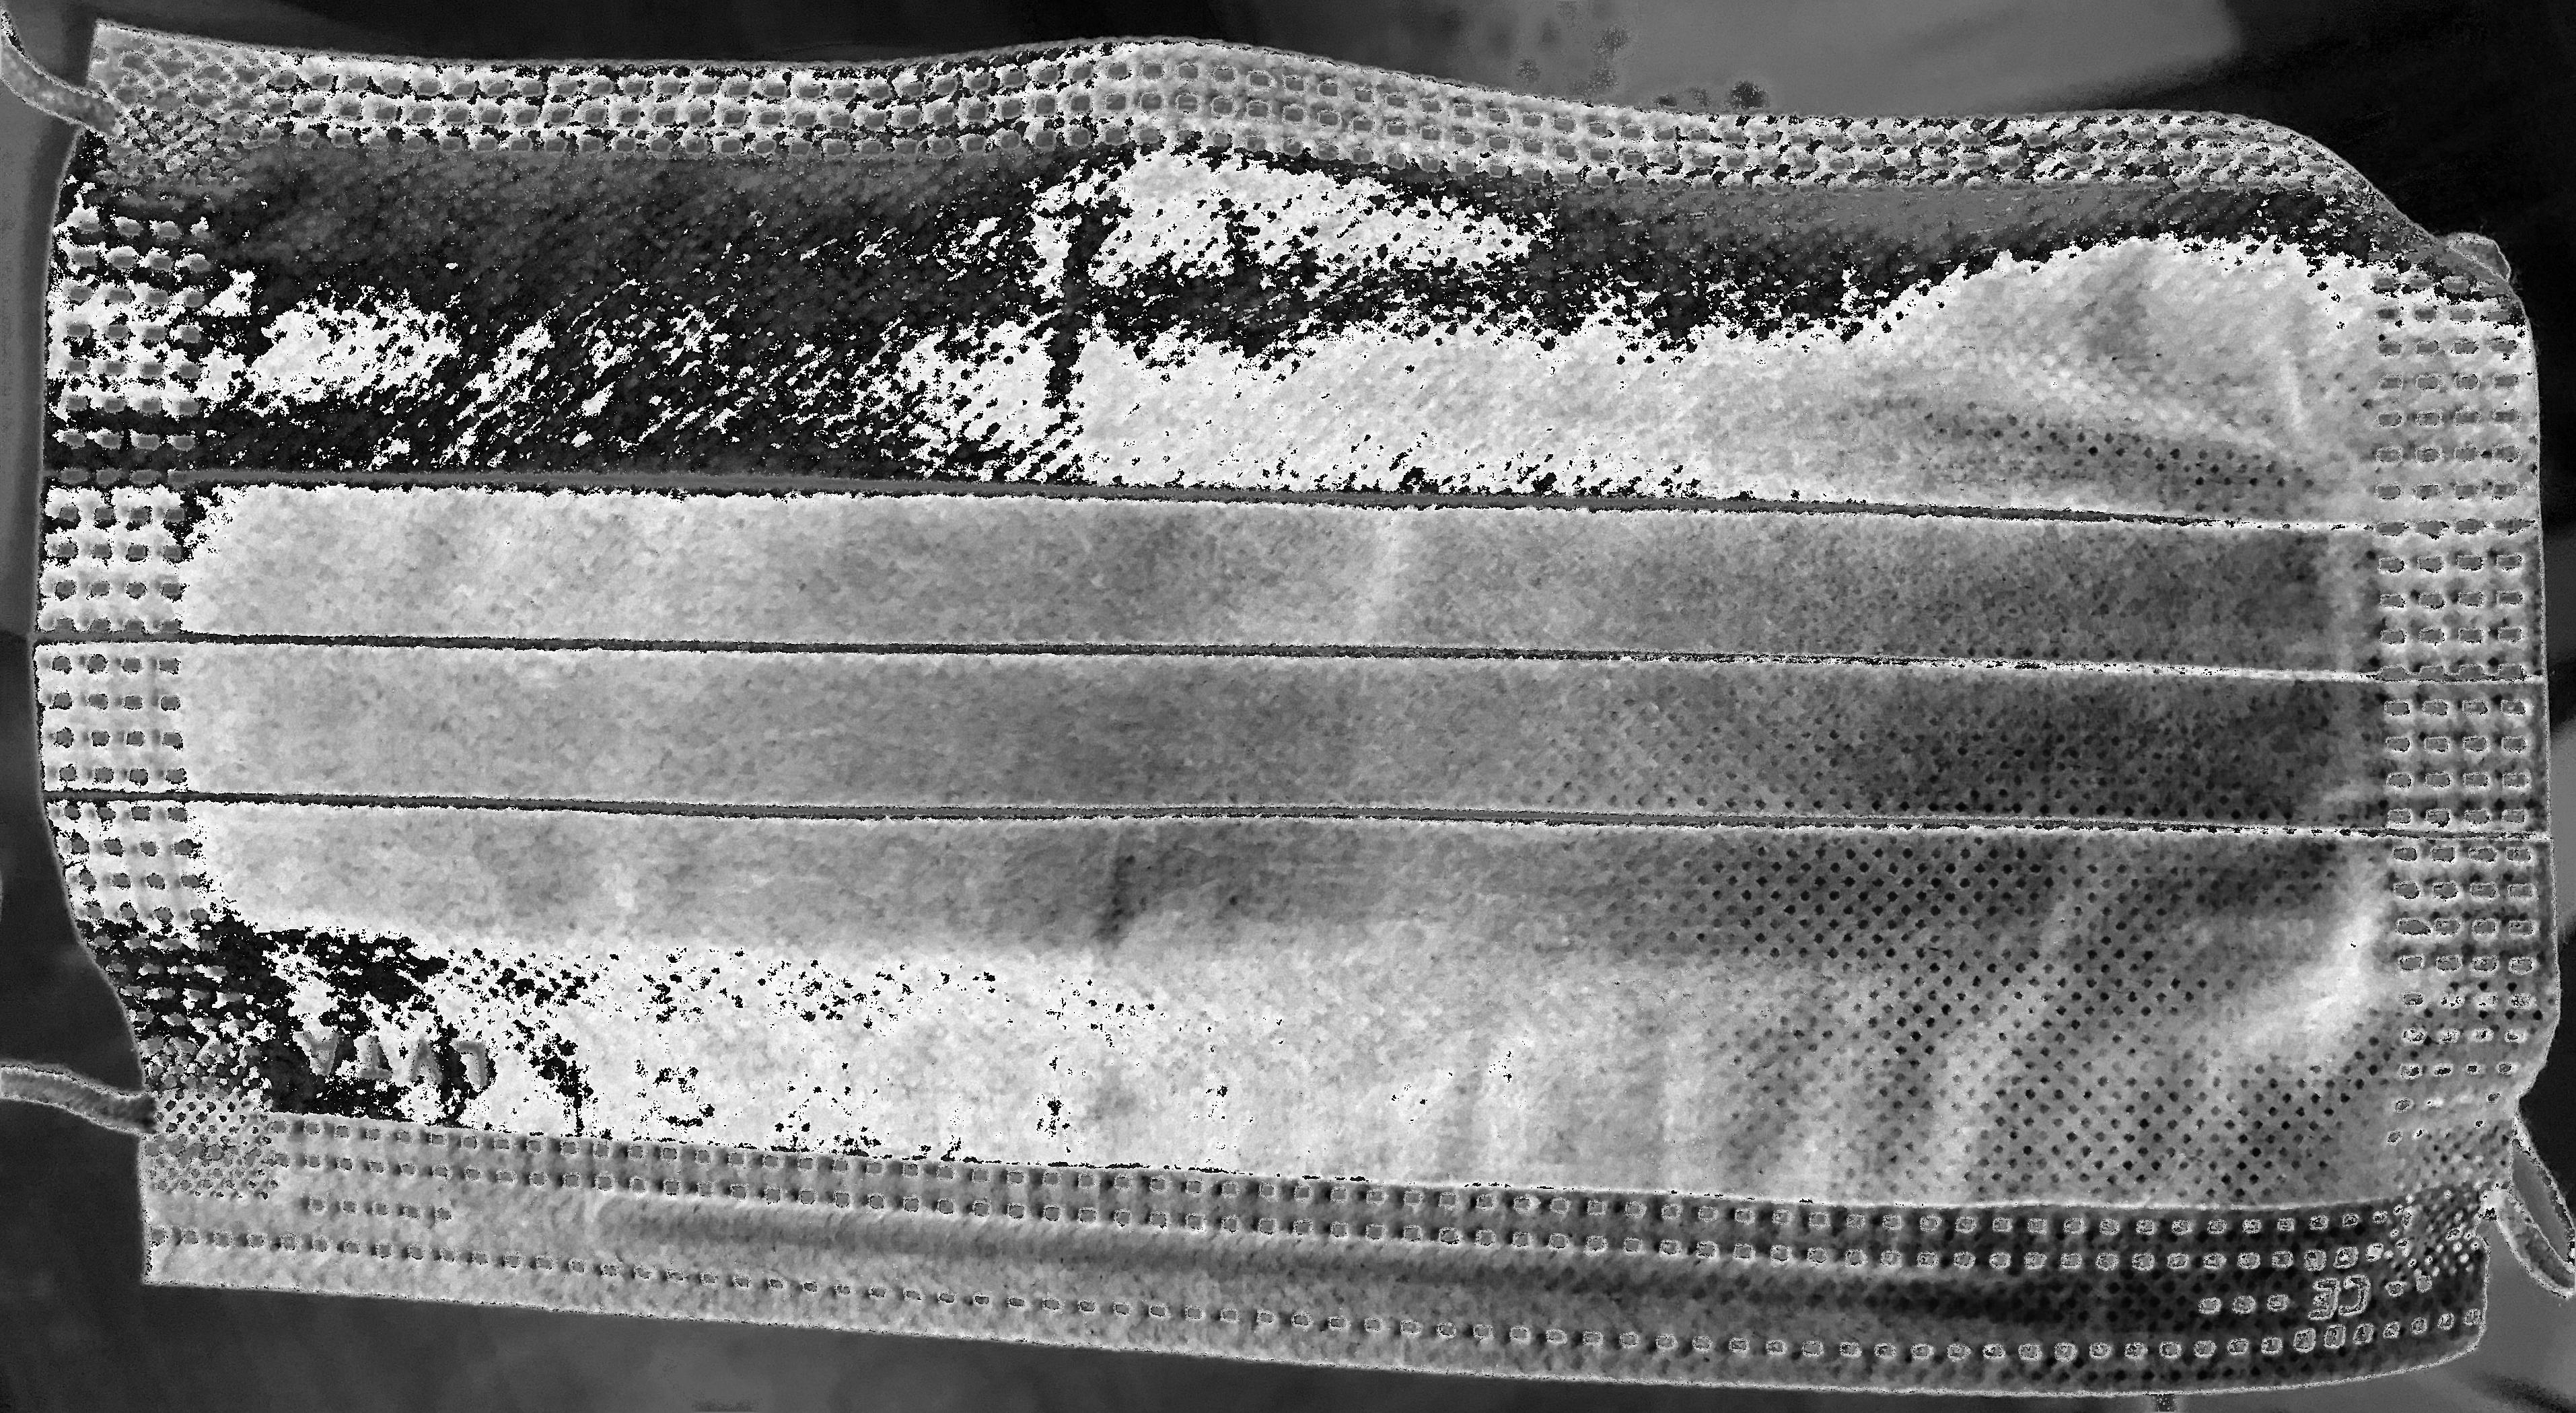High GSM: (264, 193, 2345, 1164)
